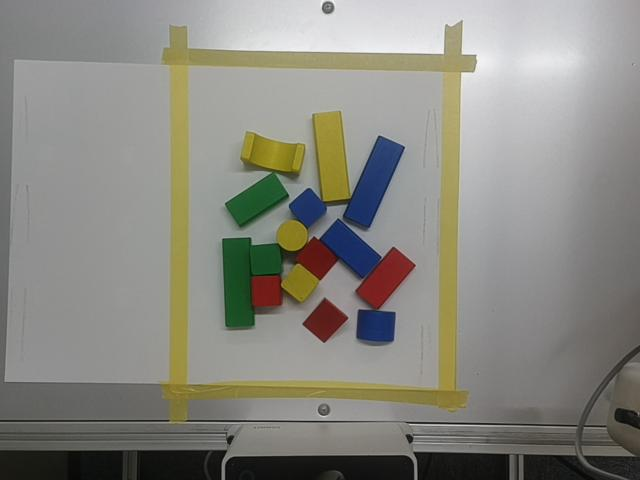blue_cube: (289, 188, 326, 228)
blue_longrect: (343, 136, 404, 228)
blue_rect: (320, 219, 381, 277)
cylinder: (277, 220, 308, 251)
green_cube: (250, 243, 281, 275)
green_longrect: (222, 238, 254, 327)
green_rect: (225, 172, 288, 226)
half_cylinder: (356, 310, 395, 342)
red_cube: (251, 275, 281, 307)
red_rect: (356, 247, 414, 308)
triangle: (303, 298, 347, 342), (296, 237, 337, 279)
yellow_archrect: (241, 131, 304, 173)
yellow_cube: (281, 264, 319, 302)
yellow_longrect: (313, 111, 350, 202)
